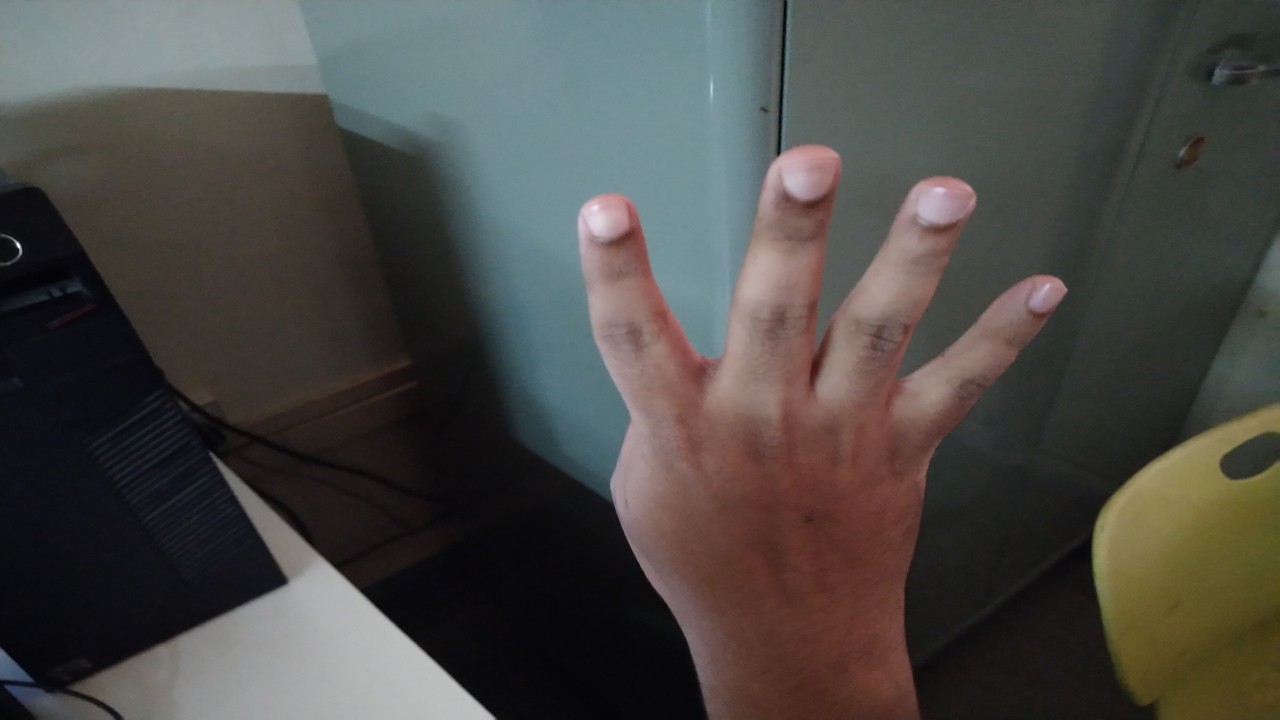fingertip: (756, 140, 848, 212), (898, 170, 994, 238), (570, 188, 646, 258), (1010, 268, 1084, 328)
